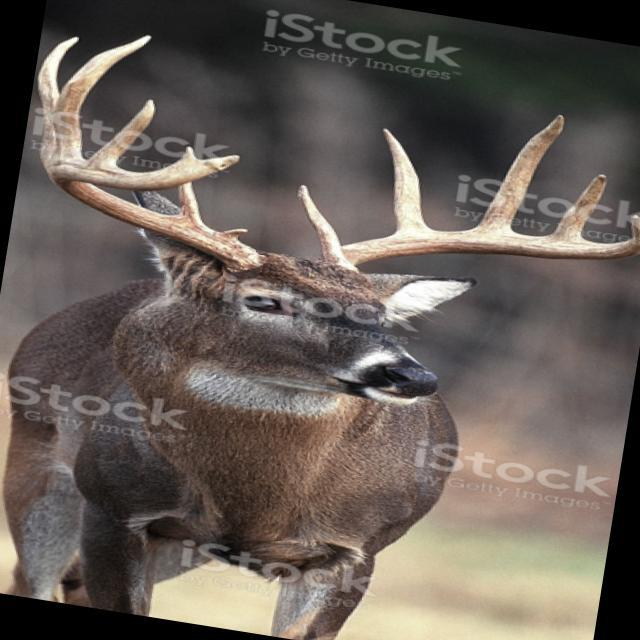E1: (220, 228, 249, 239)
E2: (178, 146, 196, 163)
L-G1: (296, 185, 359, 273)
L-G2: (382, 127, 433, 235)
L-G3: (476, 114, 565, 234)
L-G4: (546, 174, 609, 241)
R-F: (46, 155, 265, 272)
R-G3: (51, 35, 153, 162)
R-G4: (84, 99, 156, 169)
